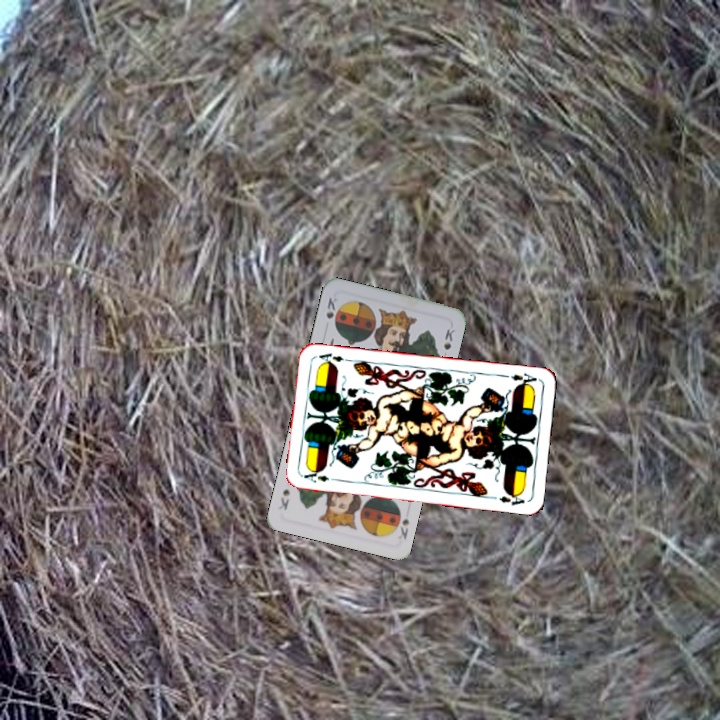EA: (300, 467, 340, 485), (506, 368, 539, 389)
SK: (322, 293, 341, 321), (394, 515, 412, 542)
